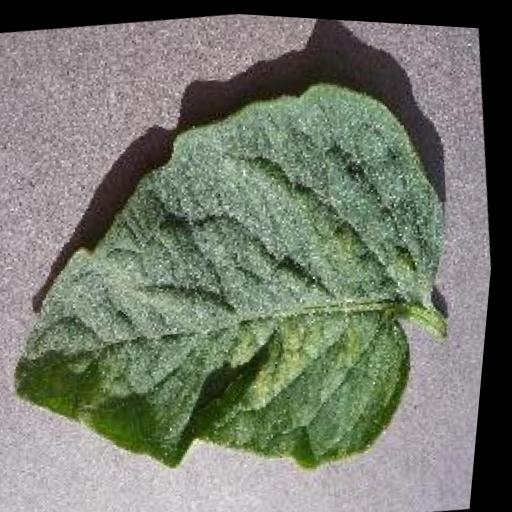Spider Mites: (0, 47, 491, 512)
